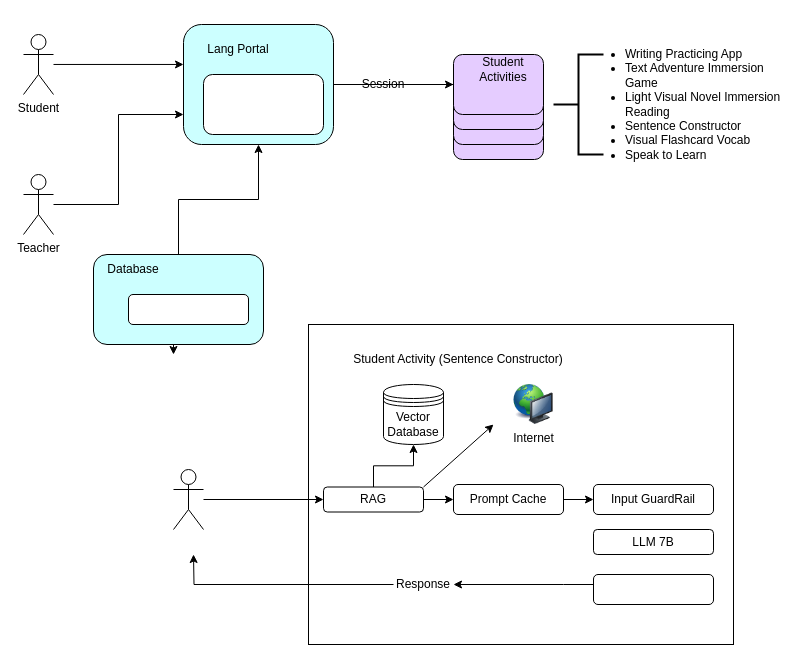
The diagram is 801 pixels wide and 662 high, and some of its shapes have lost their labels. The box of each missing label's shape, as (x1, y1, x2, y2) in pixels:
Core 2000 Words: (128, 294, 248, 324)
Output GuardRail: (592, 574, 714, 604)
User: (172, 468, 204, 530)
Word Group: (202, 74, 324, 134)
